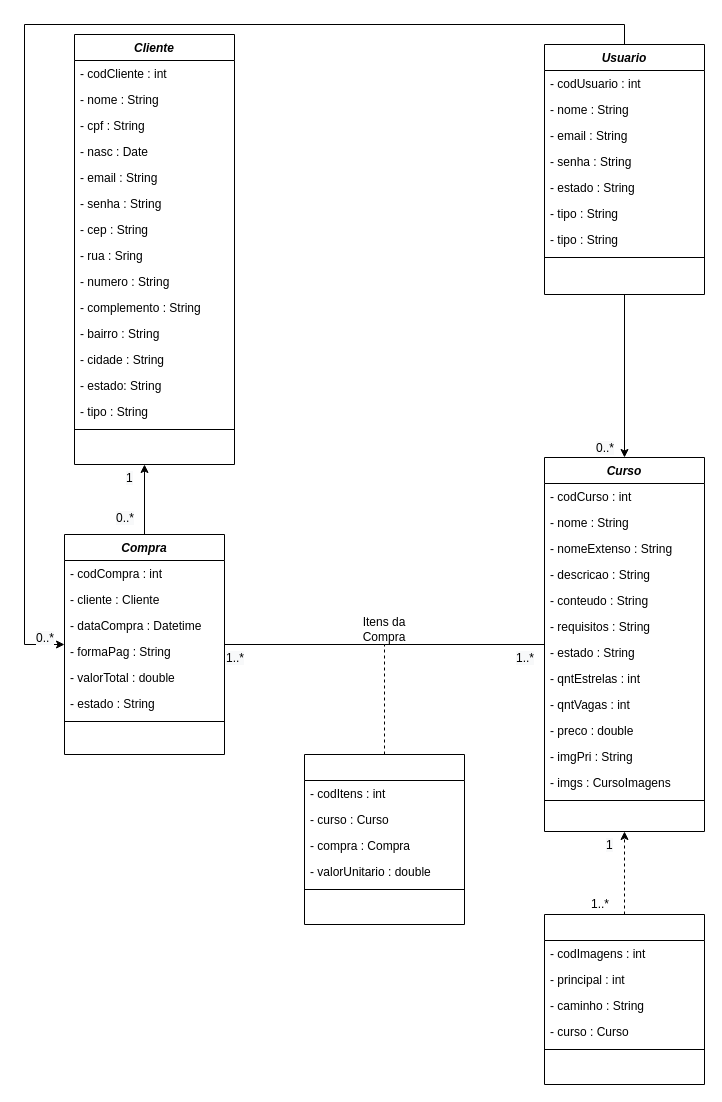
Image size: 722x1102. Some labels were removed from this diagram. Each missing label, with the box of its shape:
CursoImagens: (544, 914, 704, 1084)
ItensCompra: (304, 754, 464, 924)
